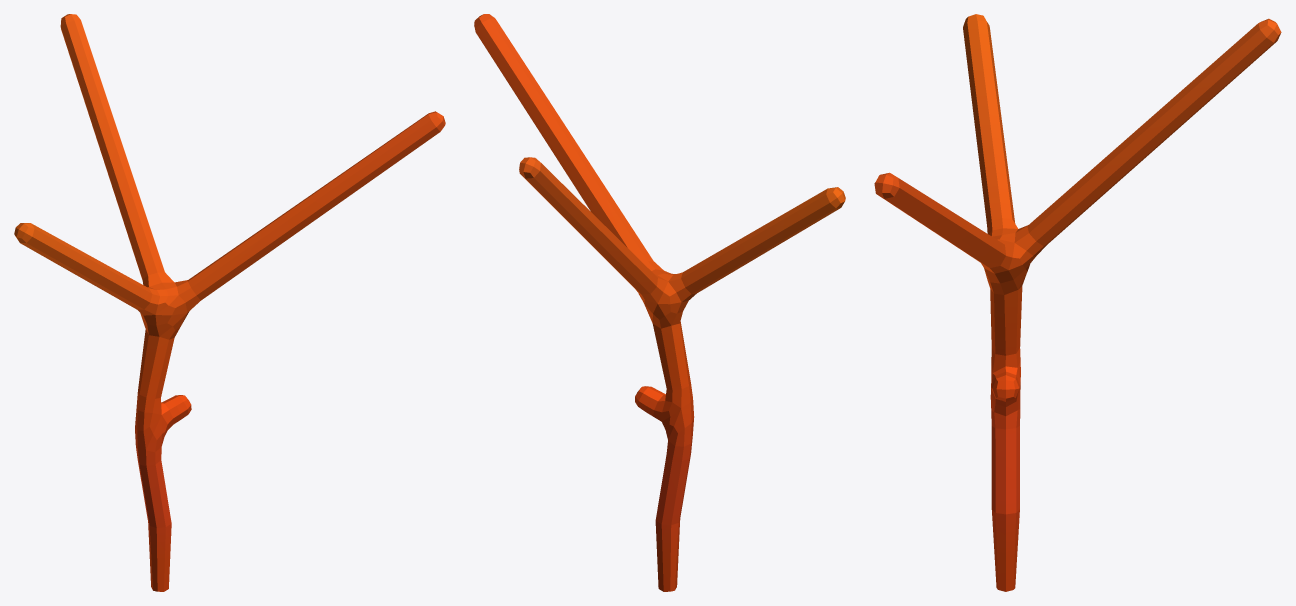
File: Tree_13.fbx
3 renders of one model, left to right at view 1: azimuth 30°, elevation 25°; view 2: azimuth 150°, elevation 25°; view 3: azimuth 270°, elevation 25°, orthographic. The views are drawn at different scales.
Visible parts, largest first — view 1: Tree_13; view 2: Tree_13; view 3: Tree_13.
Part boxes in pixels (<box>): Tree_13: <box>14,14,445,591</box>; Tree_13: <box>474,14,845,591</box>; Tree_13: <box>874,14,1281,591</box>.
Size of the model in its own units: 171 by 206 by 130.
1 material, 1 textured.
